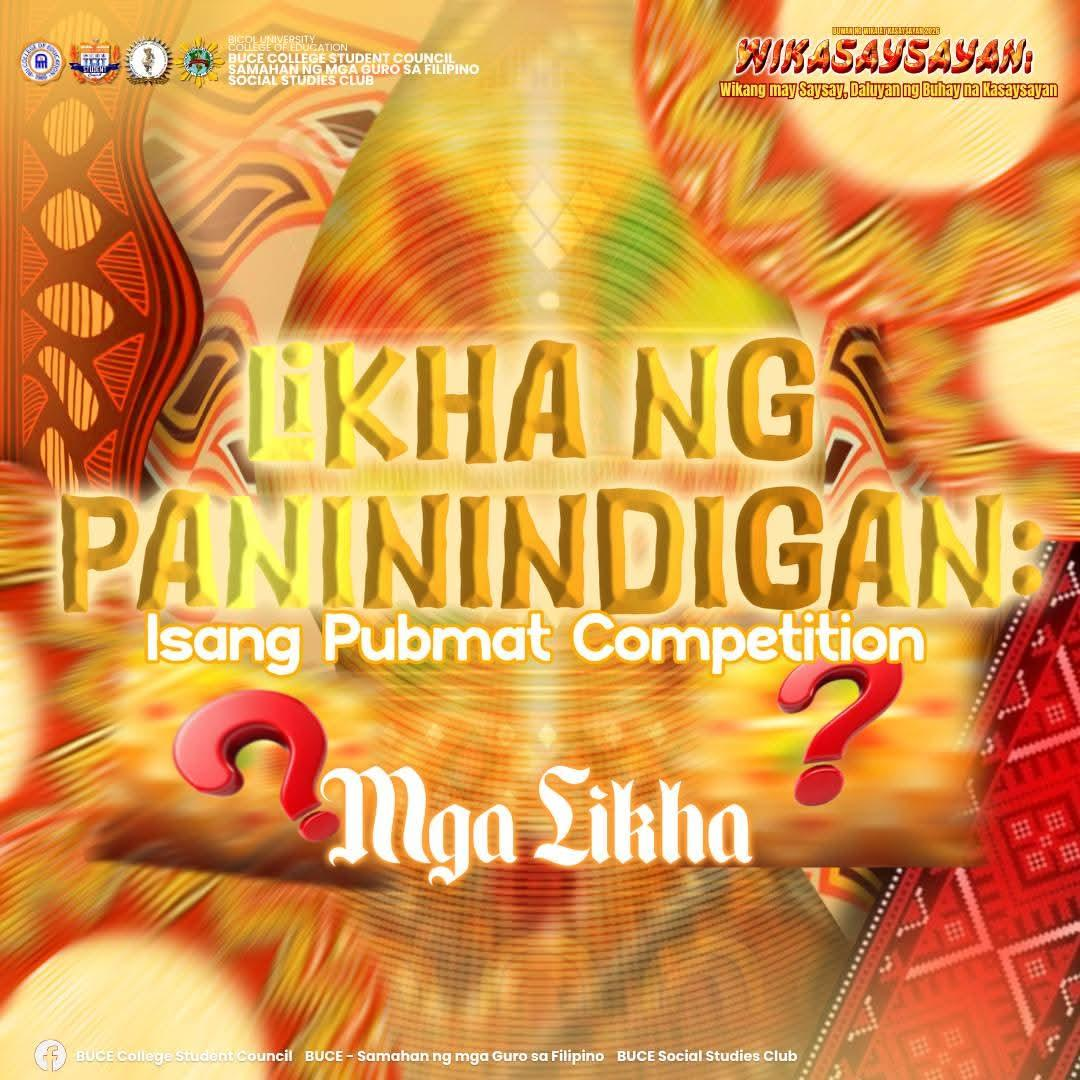embellishment: (172, 687, 338, 841), (779, 661, 907, 805), (31, 1035, 69, 1075)
logo: (66, 31, 123, 89), (172, 34, 228, 91), (122, 31, 176, 89), (13, 34, 68, 87)
text: (52, 485, 1050, 615), (241, 335, 821, 465), (314, 756, 763, 890), (141, 608, 939, 682), (716, 22, 1064, 104), (224, 30, 484, 90), (74, 1046, 806, 1066)
